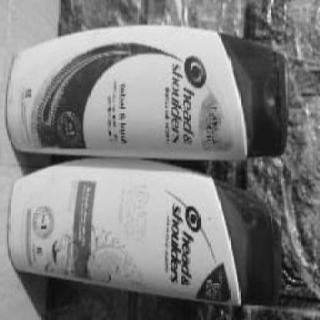objects: (9, 165, 283, 307), (7, 26, 290, 162)
